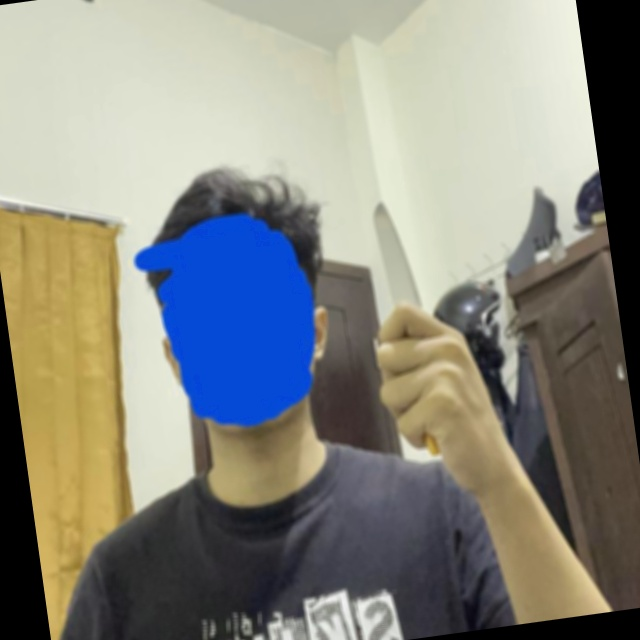Sharp-Object: (369, 195, 427, 316)
